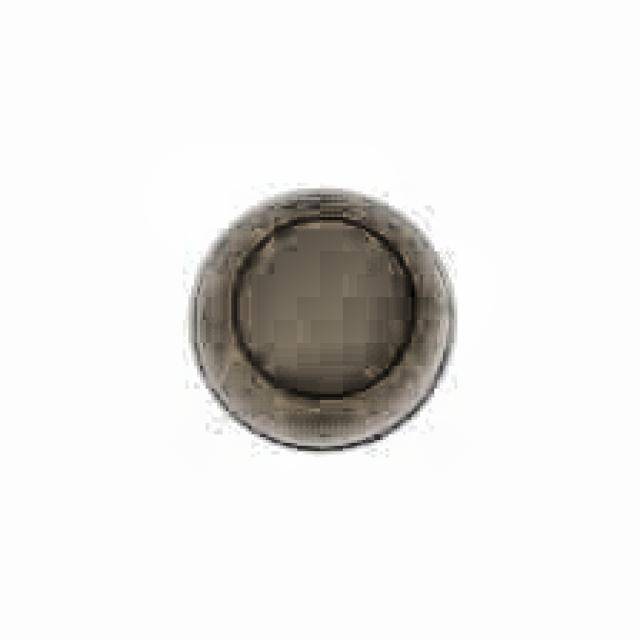Cup: (164, 176, 464, 477)
